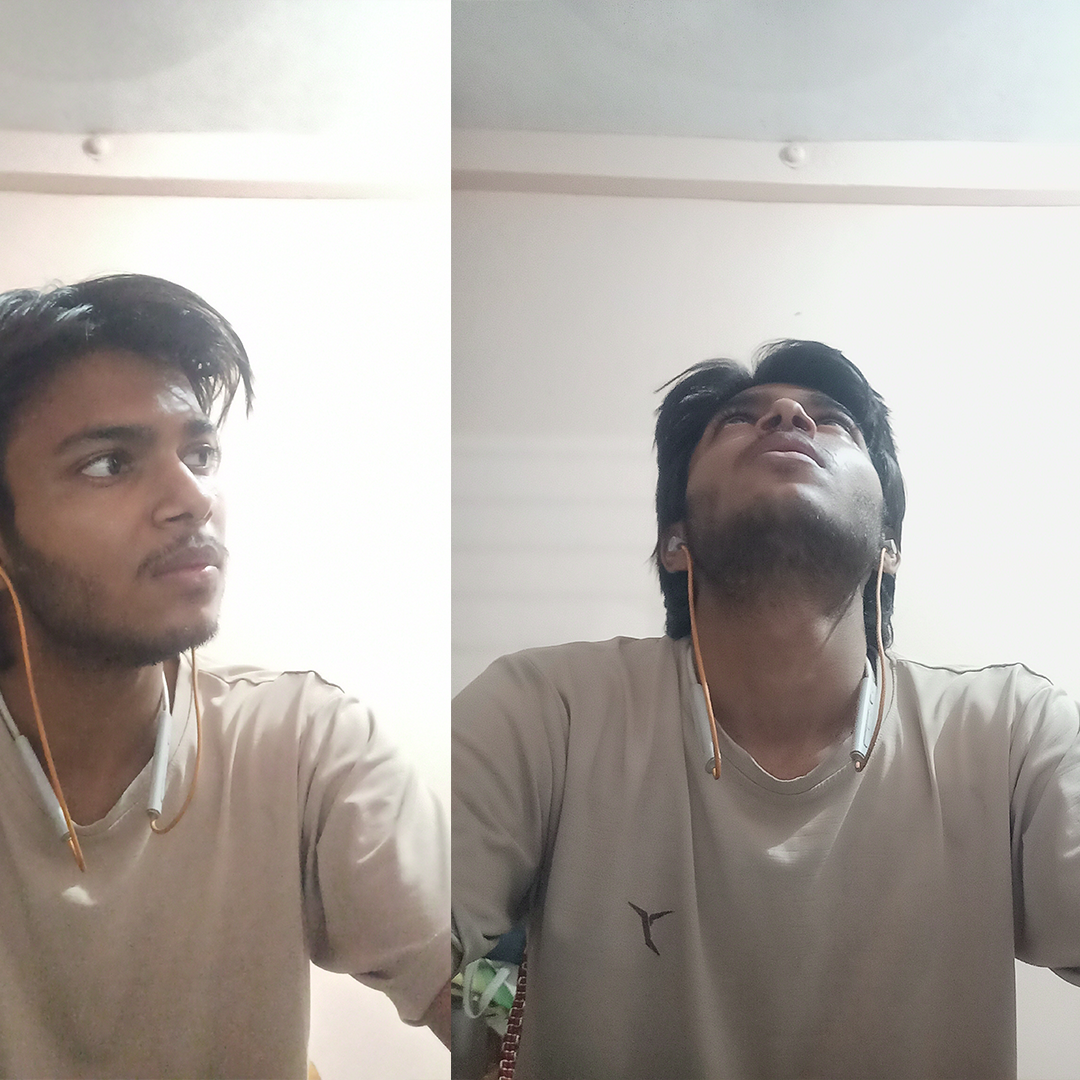distracted: (609, 279, 1012, 714), (20, 238, 335, 762)
